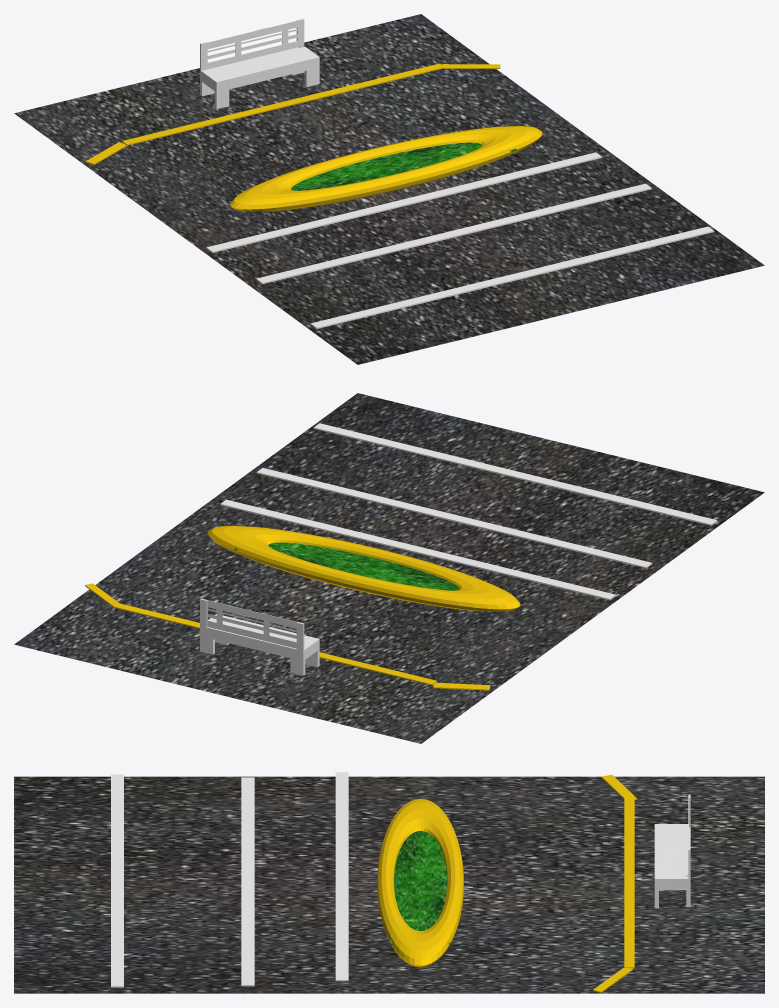
Rendered from calle con espacio lateral de autobus.glb.
The picture shows the model from 3 angles, top to bottom: view 1: azimuth 30°, elevation 25°; view 2: azimuth 150°, elevation 25°; view 3: azimuth 270°, elevation 25°; orthographic projection. The views are drawn at different scales.
Visible parts, largest first — view 1: Plano, Toroide, Cubo.004, Cubo.007, Cubo.002, Cubo.001, Cubo.008, Cubo.003; view 2: Plano, Toroide, Cubo.004, Cubo.007, Cubo.002, Cubo.001, Cubo.008, Cubo.003; view 3: Plano, Toroide, Cubo.007, Cubo.001, Cubo.008, Cubo.002, Cubo.004, Cubo.003.
Boxes of the visible parts, x1,y1,x2,y2 form: Plano: (14, 14, 764, 364); Toroide: (230, 126, 542, 211); Cubo.004: (200, 18, 319, 109); Cubo.007: (290, 142, 516, 190); Cubo.002: (310, 226, 714, 328); Cubo.001: (256, 183, 651, 284); Cubo.008: (206, 152, 601, 252); Cubo.003: (122, 63, 444, 145); Plano: (14, 393, 764, 743); Toroide: (207, 526, 520, 611); Cubo.004: (200, 598, 319, 675); Cubo.007: (234, 542, 459, 590); Cubo.002: (313, 423, 717, 525); Cubo.001: (256, 468, 652, 568); Cubo.008: (220, 499, 615, 600); Cubo.003: (114, 603, 436, 685); Plano: (14, 776, 764, 993); Toroide: (377, 799, 463, 967); Cubo.007: (390, 831, 449, 944); Cubo.001: (241, 777, 254, 986); Cubo.008: (335, 772, 348, 981); Cubo.002: (111, 774, 123, 987); Cubo.004: (654, 794, 690, 908); Cubo.003: (624, 798, 634, 968).
Bounding box in the file's own units: 19.02 × 2.56 × 27.54.
9 materials, 9 textured.
